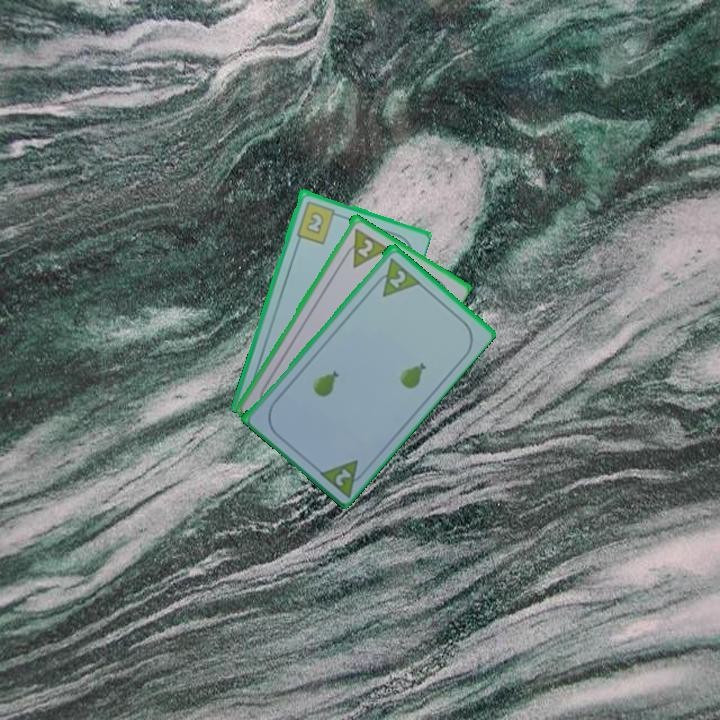2b: (293, 197, 343, 246)
2p: (338, 224, 390, 270), (385, 266, 409, 291), (331, 465, 354, 489)
